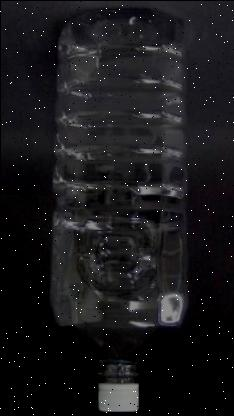Plastic Bottle: (50, 8, 190, 412)
